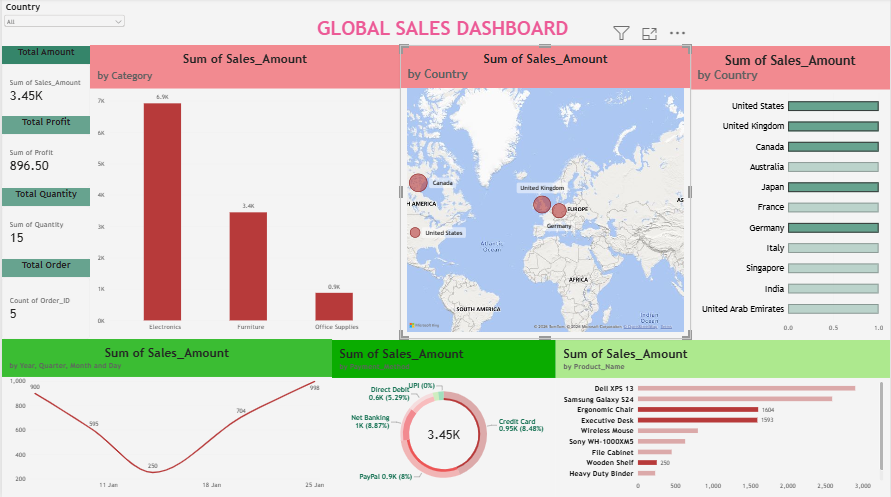

Layout of this report page (visuals, bound fields, positions):
{"tool":"powerbi","page":{"name":"Page 1","canvas":[1920,1080],"ordinal":0},"visuals":[{"type":"cardVisual","title":"Total Amount","fields":{"Data":["Sum(Table.Sales_Amount)"]},"box":[0,103.1,190.8,154.1],"z":0},{"type":"cardVisual","title":"Total Profit","fields":{"Data":["Sum(Table.Profit)"]},"box":[0,255.8,191,154],"z":1000},{"type":"cardVisual","title":"Total Quantity","fields":{"Data":["Sum(Table.Quantity)"]},"box":[0,409.9,191,154],"z":2000},{"type":"cardVisual","title":"Total Order","fields":{"Data":["Count(Table.Order_ID)"]},"box":[0,564,190.8,173.7],"z":3000},{"type":"columnChart","fields":{"Category":["Table.Category"],"Y":["Sum(Table.Sales_Amount)"]},"box":[190,100.6,670,635.9],"z":4000},{"type":"map","fields":{"Category":["Table.Country"],"Size":["Sum(Table.Sales_Amount)"]},"box":[859.7,101.5,628.6,635.9],"z":5000},{"type":"barChart","fields":{"Category":["Table.Country"],"Y":["Sum(Table.Sales_Amount)"]},"box":[1486.1,103.7,433.3,636.7],"z":6000},{"type":"lineChart","fields":{"Category":["Table.Order_Date.Variation.Date Hierarchy.Year","Table.Order_Date.Variation.Date Hierarchy.Quarter","Table.Order_Date.Variation.Date Hierarchy.Month","Table.Order_Date.Variation.Date Hierarchy.Day"],"Y":["Sum(Table.Sales_Amount)"]},"box":[0,736.6,712.5,342.5],"z":7000},{"type":"donutChart","fields":{"Category":["Table.Payment_Method"],"Y":["Sum(Table.Sales_Amount)"]},"box":[712.5,738.1,482.5,342.5],"z":8000},{"type":"textbox","box":[680,38.1,587.5,62.5],"z":9000},{"type":"clusteredBarChart","fields":{"Category":["Table.Product_Name"],"Y":["Sum(Table.Sales_Amount)"]},"box":[1196.7,738.1,723.3,343.3],"z":10000},{"type":"slicer","fields":{"Values":["Table.Country"]},"box":[0,7.5,270,92.5],"z":11000}]}

Visuals, with their boxes in screenshot pixels (x1, y1, x2, y2), scaled from the page's 1920x1080 canvas onto the 891x497 screenshot:
"Total Amount" cardVisual: x1=0, y1=47, x2=89, y2=118
"Total Profit" cardVisual: x1=0, y1=118, x2=89, y2=189
"Total Quantity" cardVisual: x1=0, y1=189, x2=89, y2=259
"Total Order" cardVisual: x1=0, y1=260, x2=89, y2=339
columnChart - Table.Category x Sum(Table.Sales_Amount): x1=88, y1=46, x2=399, y2=339
map - Table.Country x Sum(Table.Sales_Amount): x1=399, y1=47, x2=691, y2=339
barChart - Table.Country x Sum(Table.Sales_Amount): x1=690, y1=48, x2=890, y2=341
lineChart - Table.Order_Date.Variation.Date Hierarchy.Year x Table.Order_Date.Variation.Date Hierarchy.Quarter: x1=0, y1=339, x2=331, y2=496
donutChart - Table.Payment_Method x Sum(Table.Sales_Amount): x1=331, y1=340, x2=555, y2=496
textbox: x1=316, y1=18, x2=588, y2=46
clusteredBarChart - Table.Product_Name x Sum(Table.Sales_Amount): x1=555, y1=340, x2=890, y2=496
slicer - Table.Country: x1=0, y1=3, x2=125, y2=46
